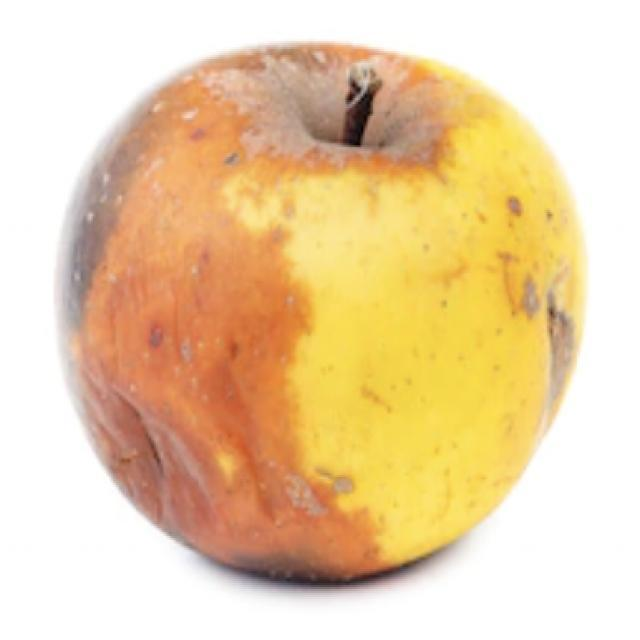Rotten: (48, 35, 585, 585)
